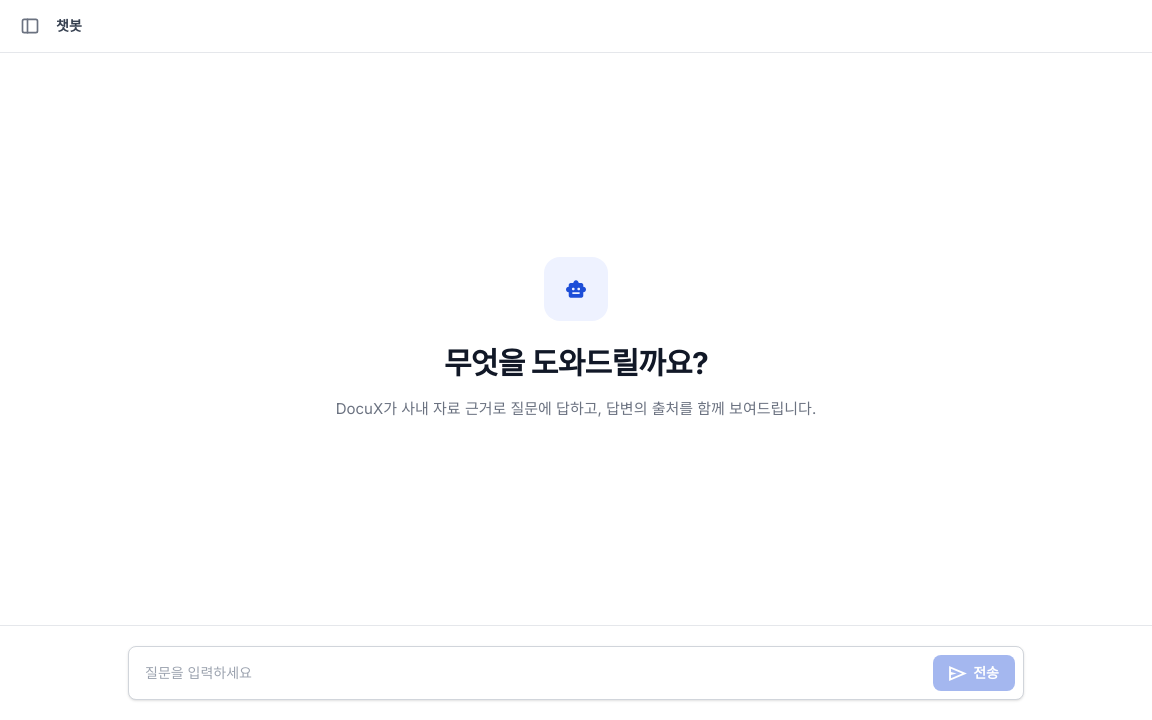
Test case: ChatPage › grounded=false면 근거 없음을 명시한다
Type "답 없는 질문" into the field labelled "질문" at [535, 673], box [145,663,925,683]
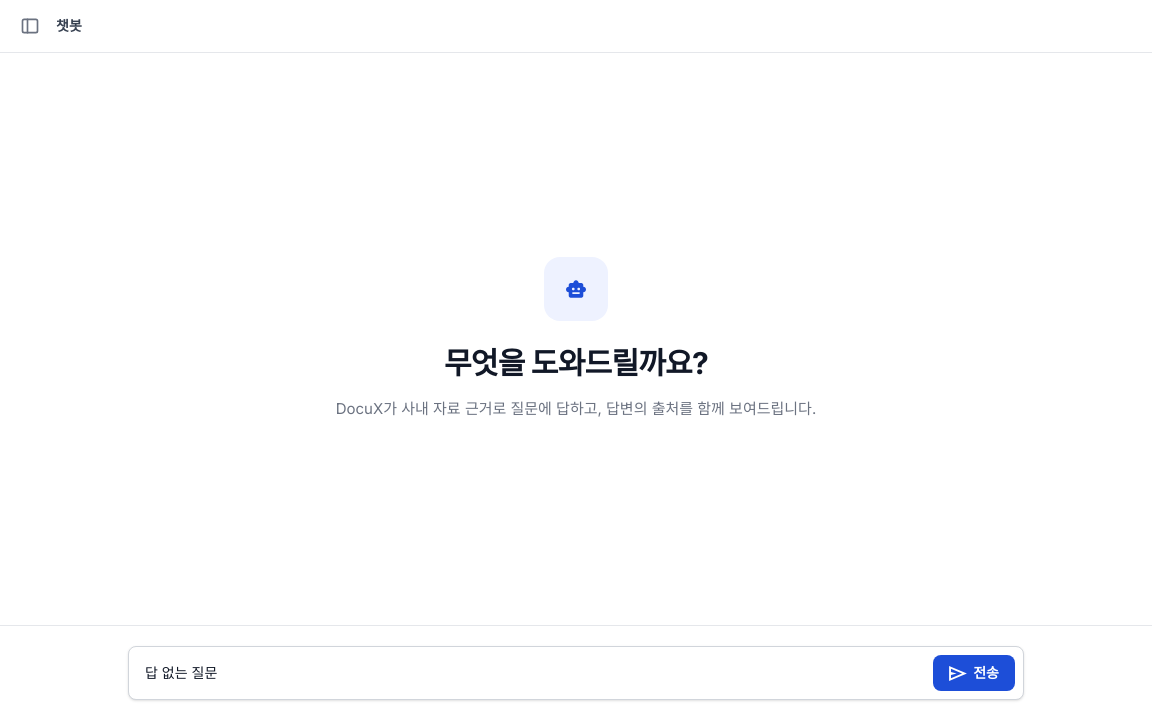
Click the button "전송" at [974, 673], box [933,655,1015,691]
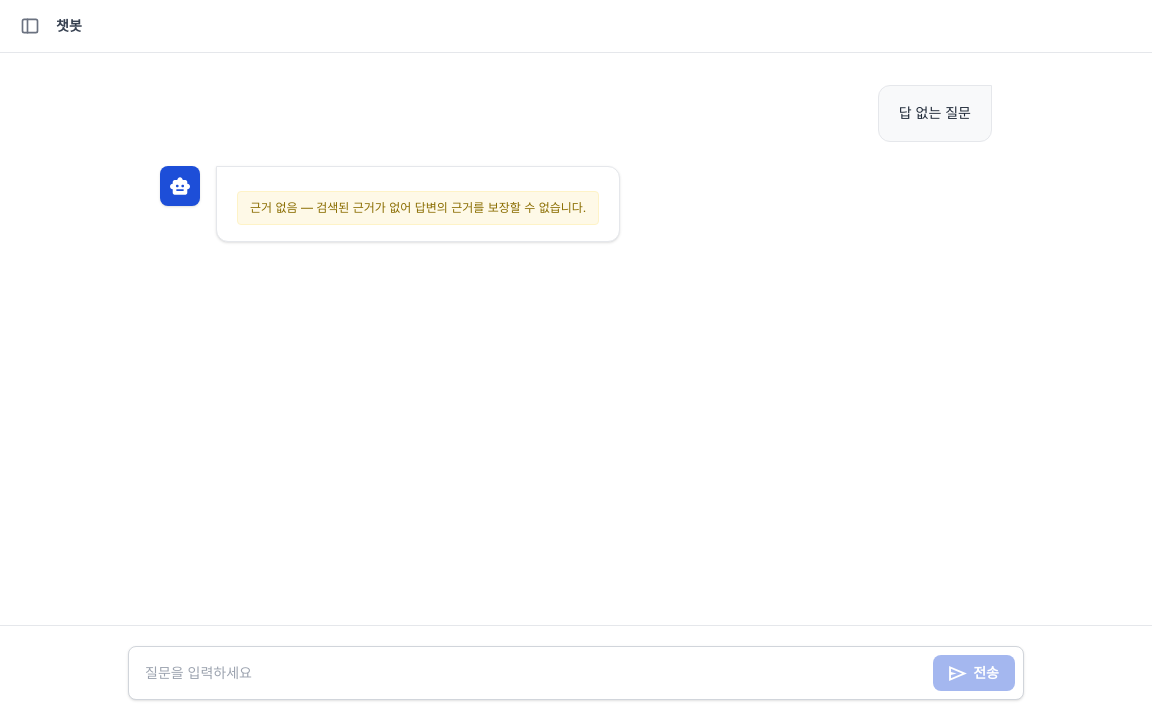
Expected: the text "근거 없음 — 검색된 근거가 없어 답변의 근거를 보장할 수 없습니다." is shown, [237,191,599,225]
Expected: the text labelled "출처" is gone
